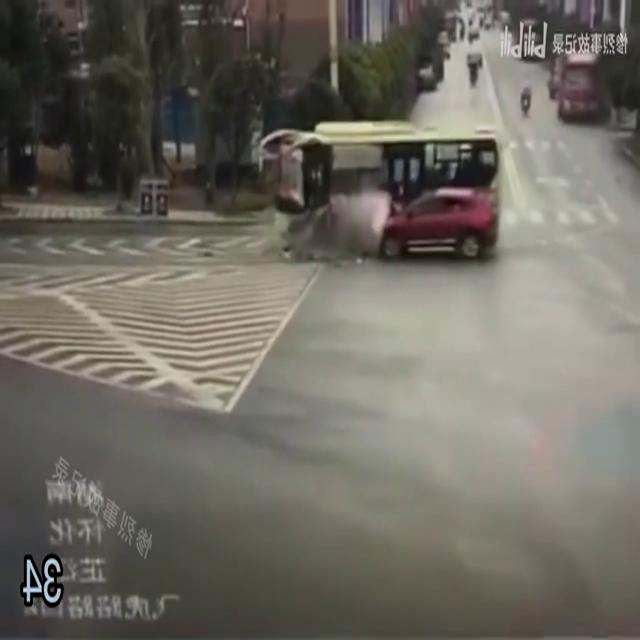accident: (258, 121, 500, 272)
non-accident: (519, 47, 611, 125), (464, 50, 486, 88)
